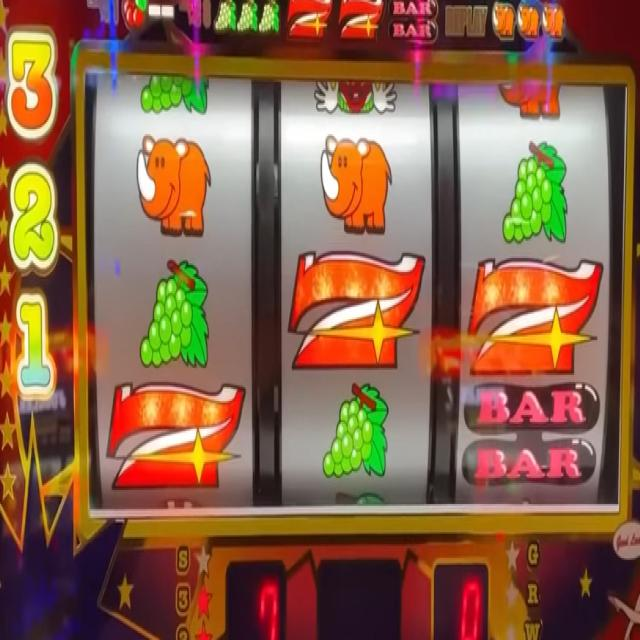bar: (462, 381, 601, 488), (387, 0, 439, 43)
cherry: (120, 0, 147, 29)
clown: (314, 77, 398, 116)
display: (86, 65, 620, 509)
elephant: (136, 132, 214, 241), (320, 133, 394, 236), (496, 76, 563, 119), (517, 0, 540, 45), (542, 3, 565, 42), (492, 2, 516, 38)
grape: (138, 256, 211, 374), (502, 140, 570, 244), (322, 380, 389, 481), (140, 74, 213, 120), (214, 2, 237, 34), (236, 0, 257, 34), (259, 2, 280, 36)
z: (289, 250, 425, 372), (467, 254, 602, 376), (106, 380, 243, 490), (338, 0, 382, 44), (288, 0, 333, 39)
